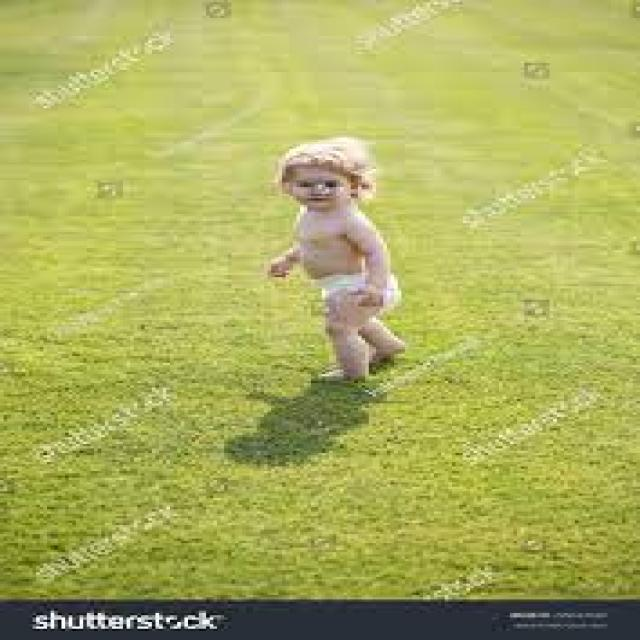Person: (270, 138, 410, 385)
